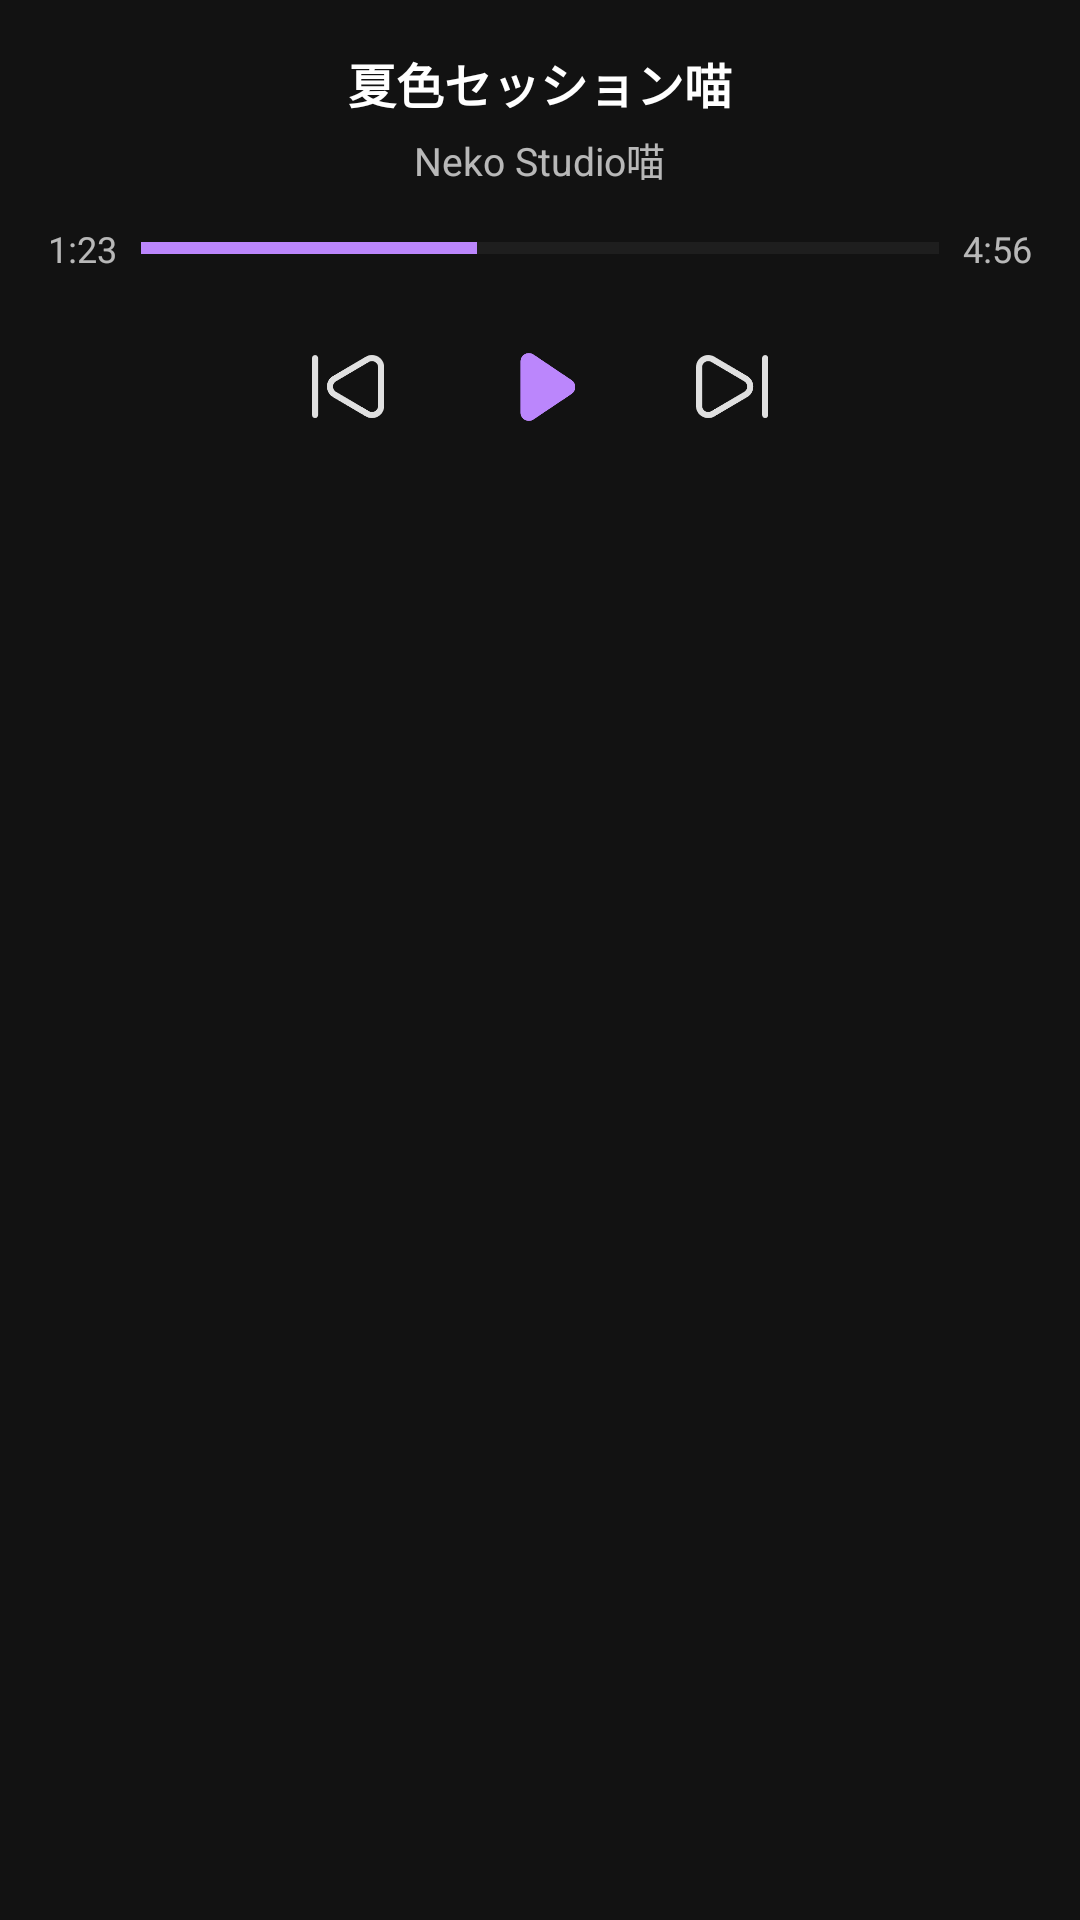

Named icons in this screenshot (1080×1920) and their centers, point (x, y):
上一曲喵: point (348, 386)
下一曲喵: point (732, 386)
播放或暂停喵: point (547, 387)
